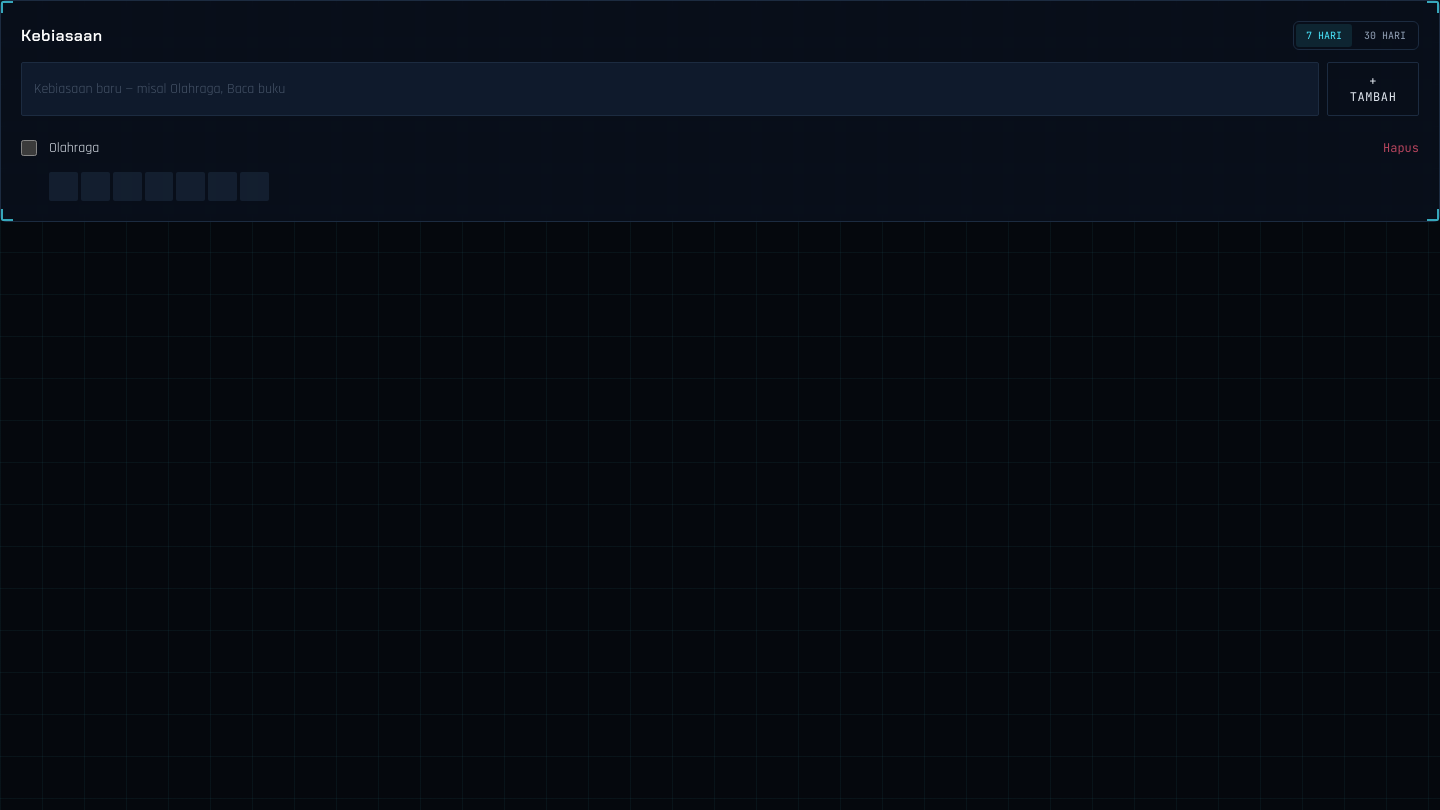
Test case: HabitsPanel › renames a habit inline
The width and height of the screenshot is (1440, 810).
Click the button "Olahraga": coordinates (74, 148) [49,138,1371,158]
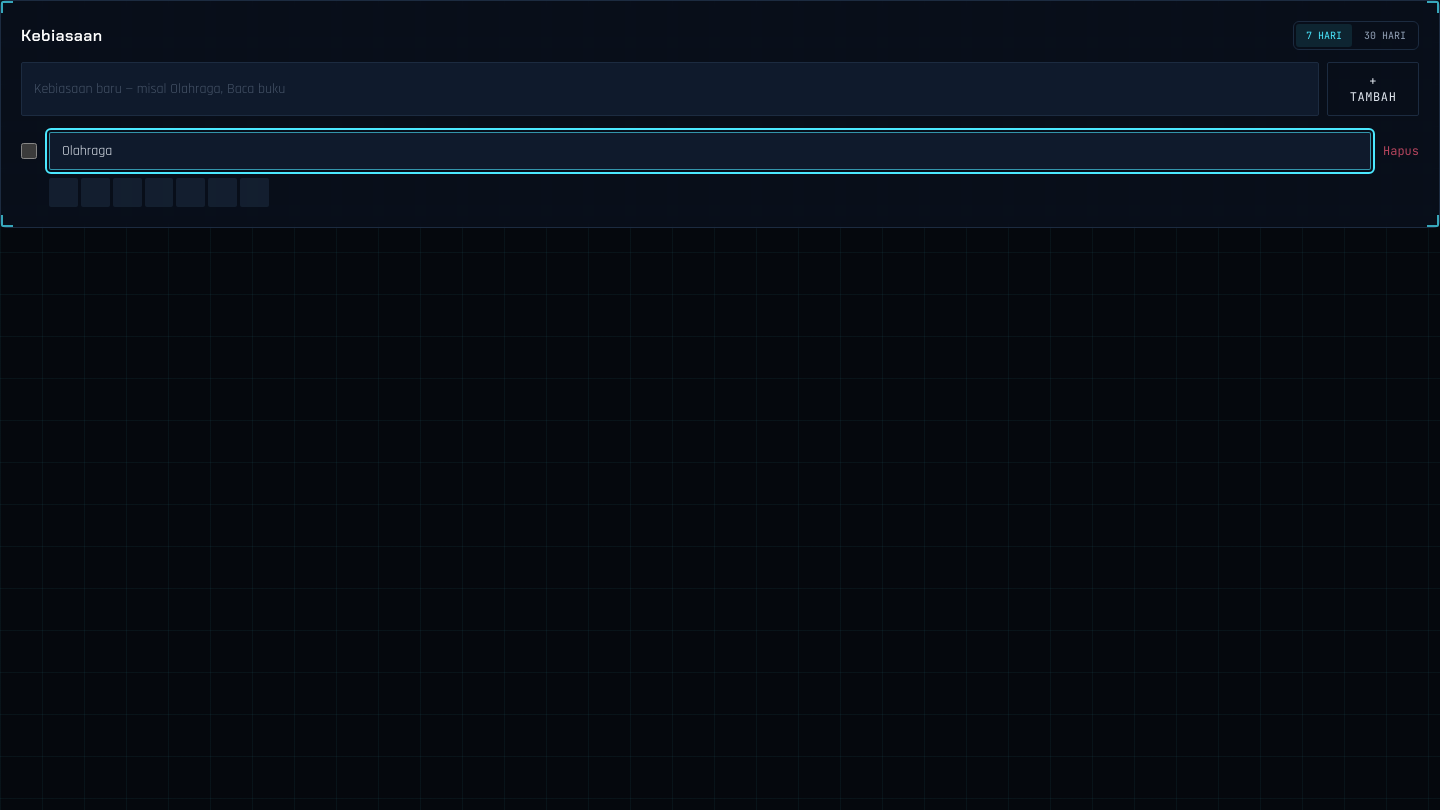
Replace the text in the field showing "Olahraga" with "Lari pagi": coordinates (710, 151) [49,132,1371,170]
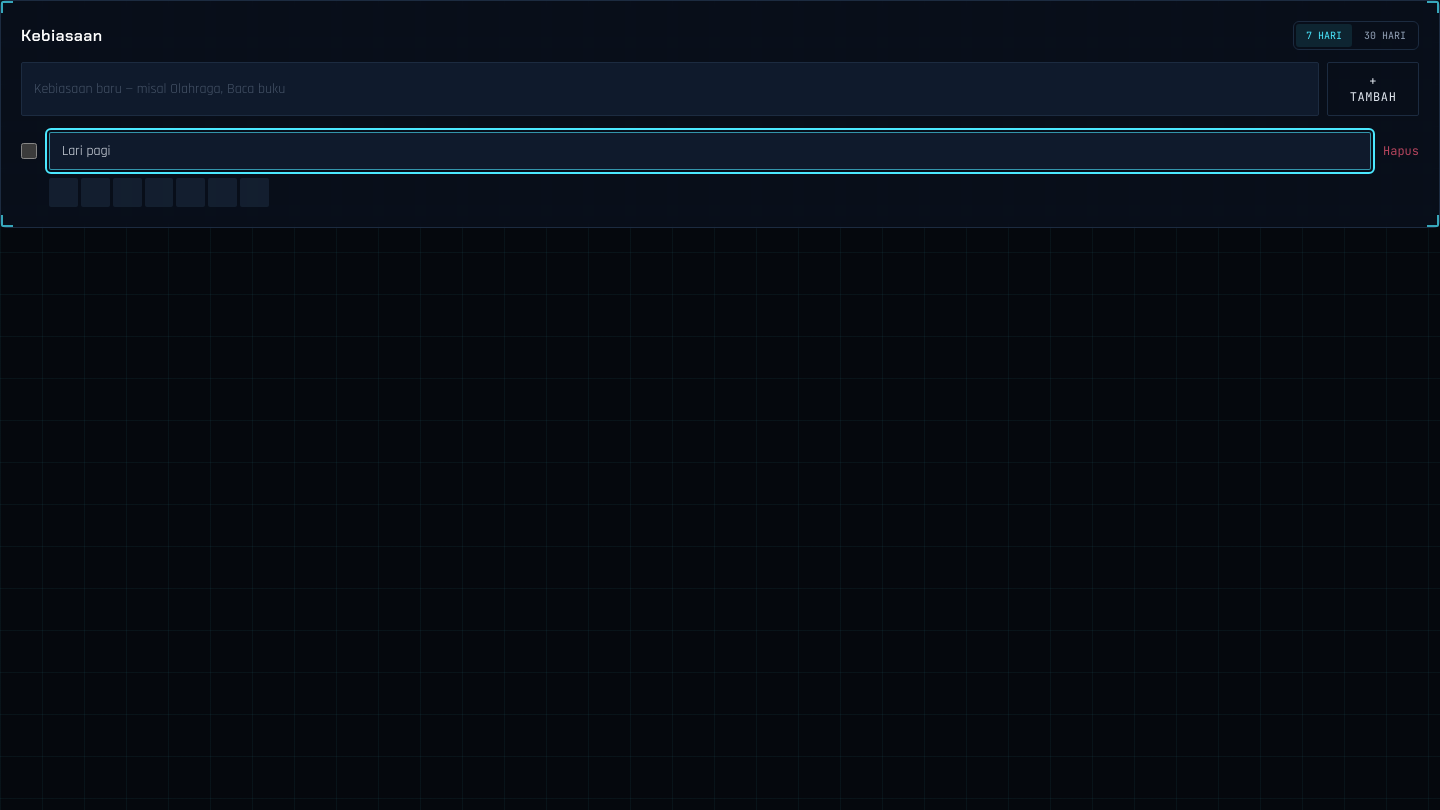
Press Enter in the field showing "Olahraga", box [49,132,1371,170]
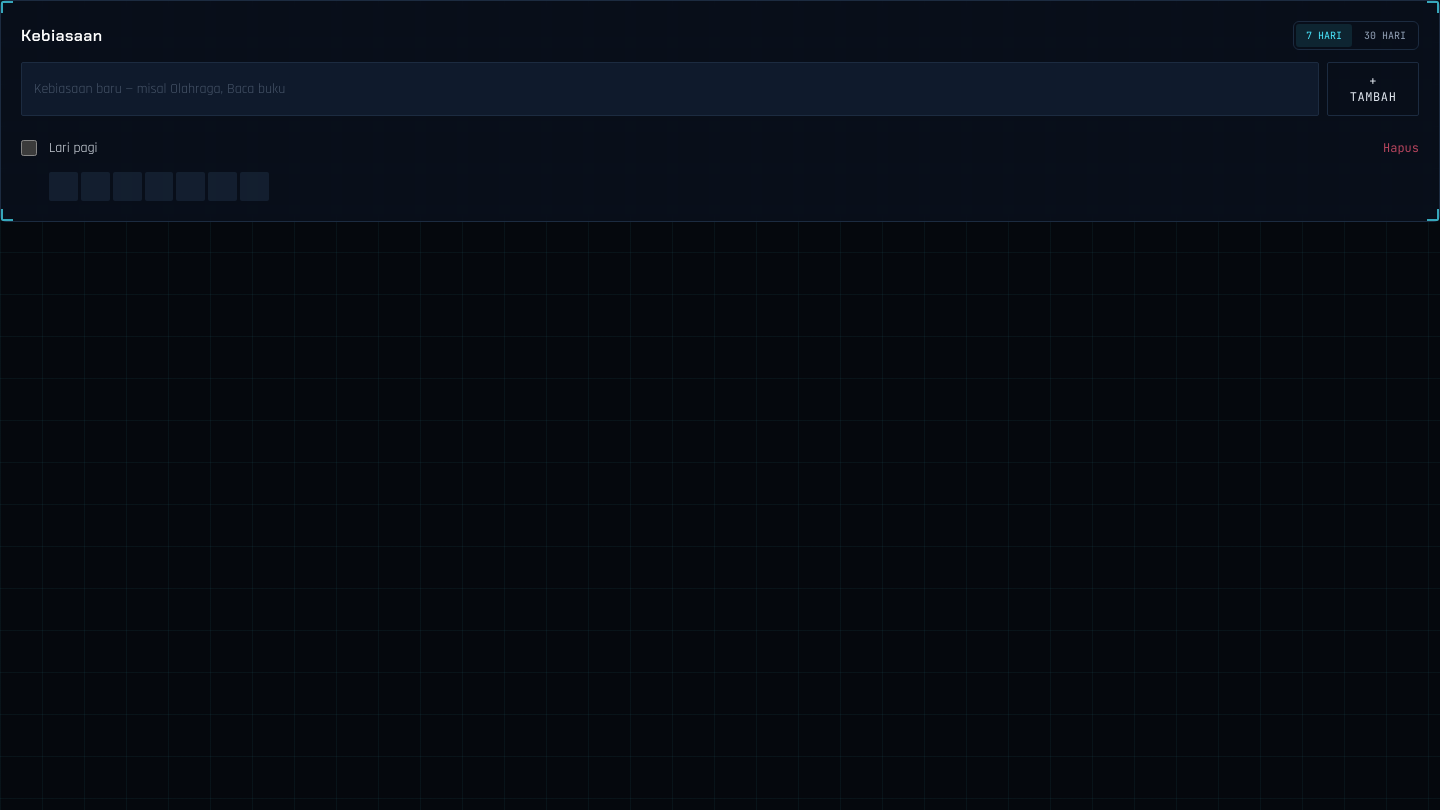
Now the button "Lari pagi" is shown, box [49,138,1371,158]
